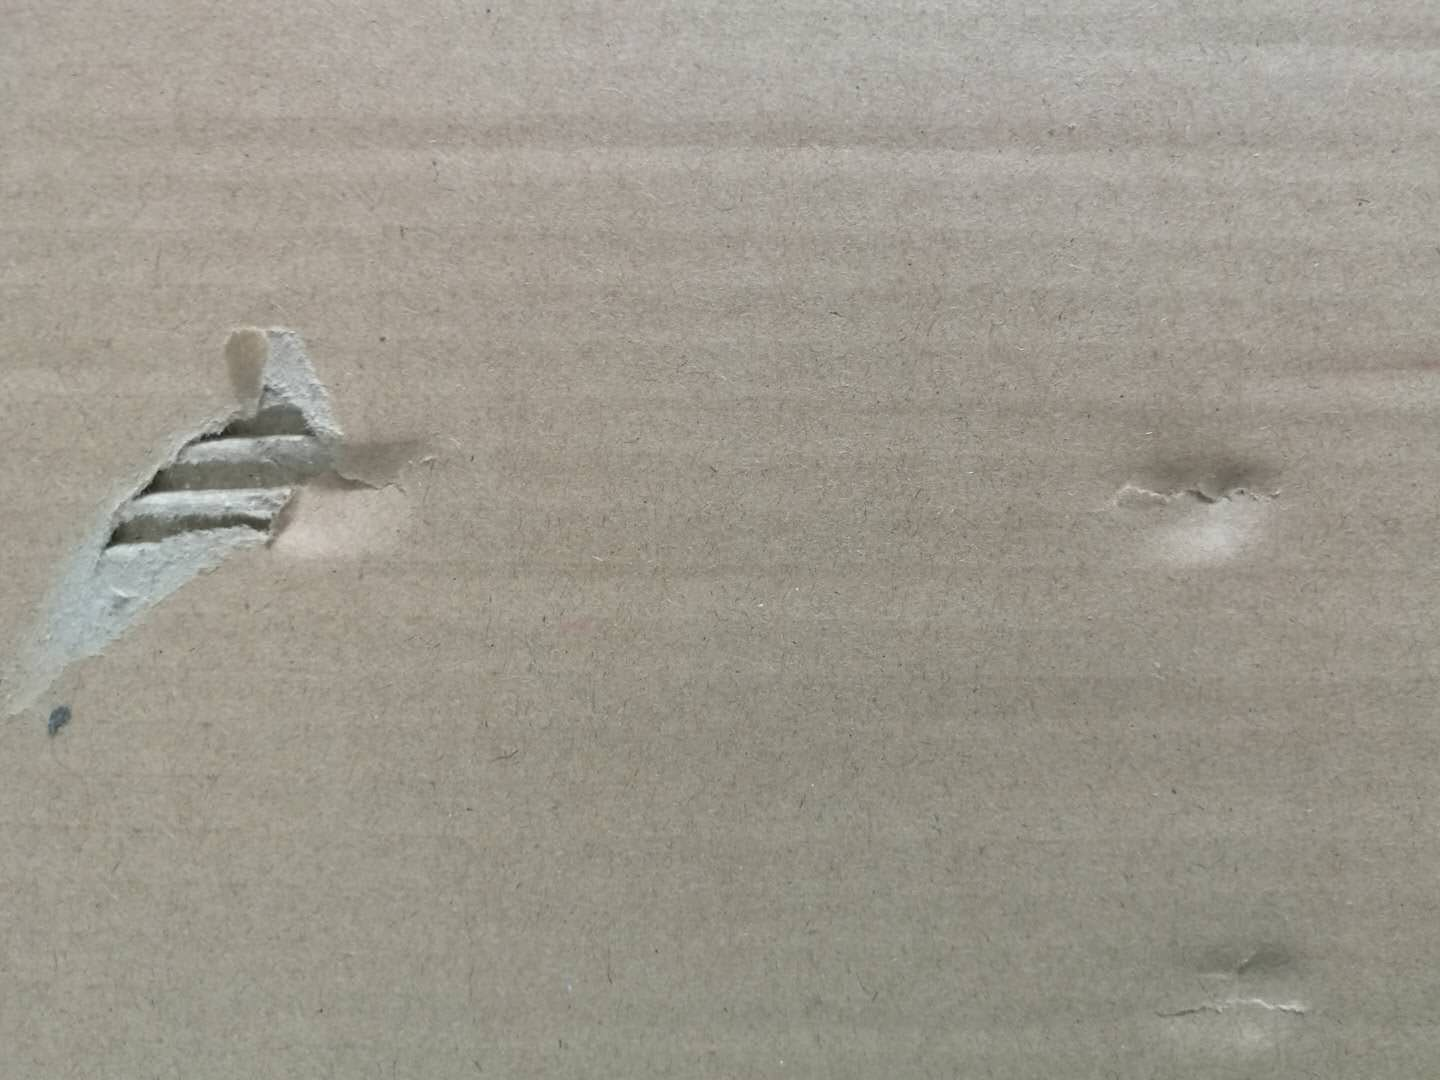defect: (1, 292, 485, 743), (249, 88, 1284, 182), (1087, 421, 1327, 597), (1144, 927, 1356, 1078)
